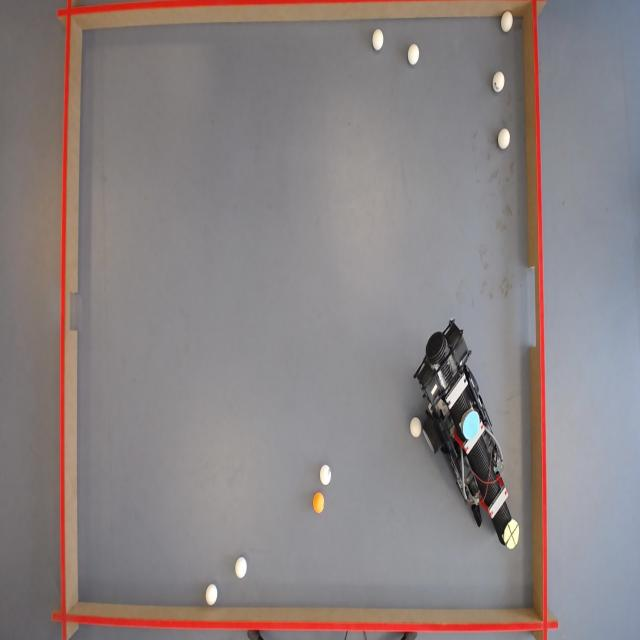orange: (312, 493, 325, 514)
robot: (414, 315, 525, 554)
robot-front: (505, 520, 522, 550)
robot-rear: (460, 410, 480, 441)
white: (205, 584, 219, 607), (407, 44, 420, 66), (500, 10, 513, 32), (235, 557, 248, 579), (373, 29, 386, 51), (319, 464, 332, 486), (493, 71, 506, 93), (497, 130, 511, 150), (410, 418, 423, 438)
